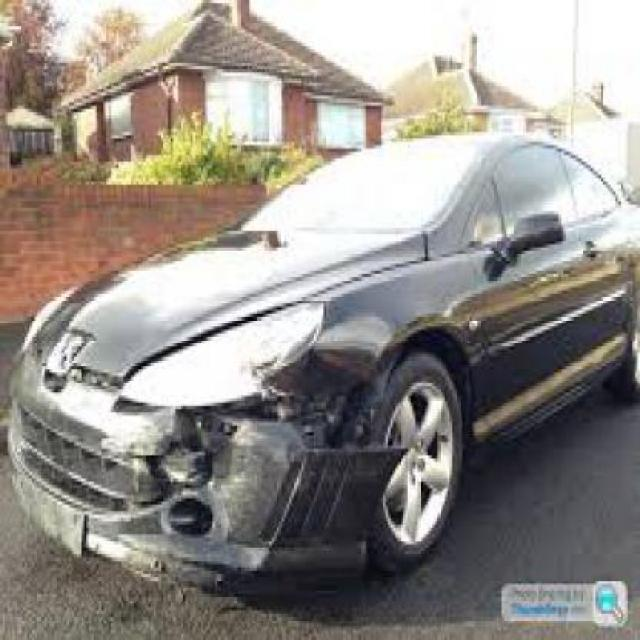damaged-front-bumper: (0, 404, 369, 576)
